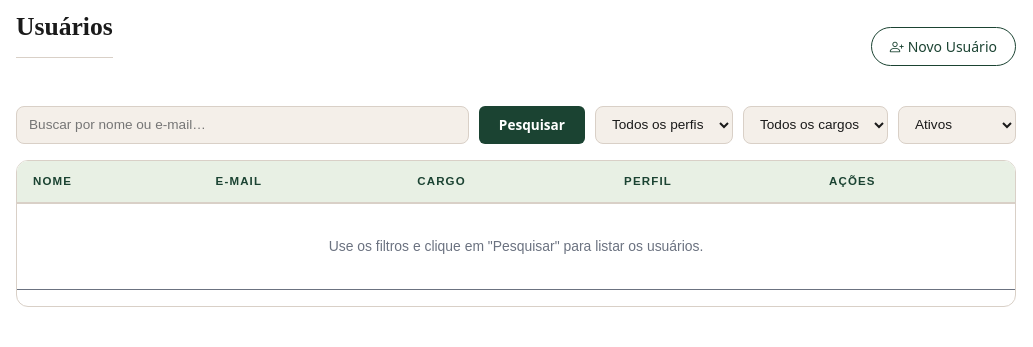
UserList — filtros (rascunho → aplica) › aplicar com o status padrão "Ativos" mostra ativos e esconde bloqueados
What coordinates should you click on to do the following:
click the button with class "user-list-btn-filtrar"
I would click on:
 (532, 125)
Its box is [479,106,585,144].
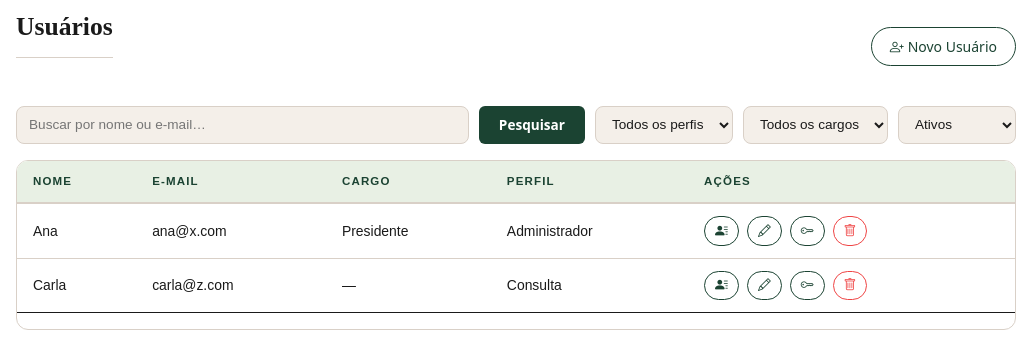
Check: the text "ana@x.com" is shown, box [136,203,326,258]
Check: the text "carla@z.com" is shown, box [136,258,326,312]
